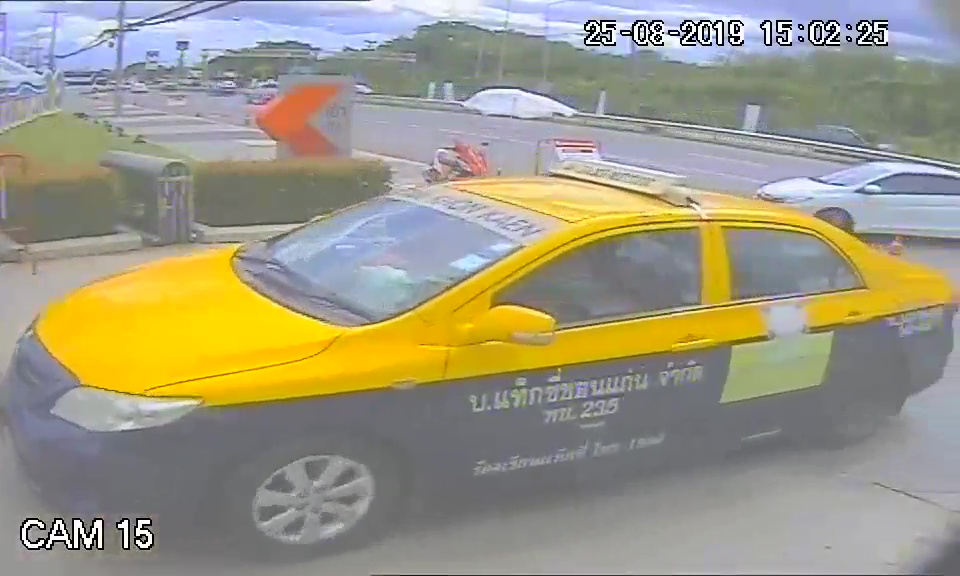sedan: (13, 170, 945, 552)
